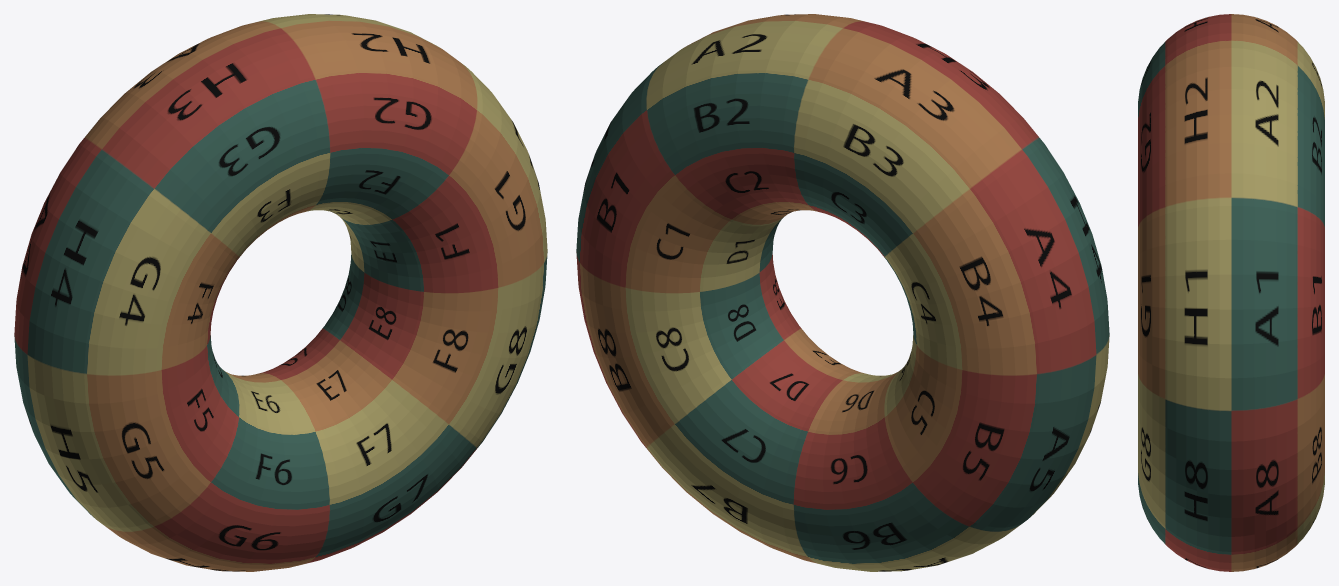
Rendered from texture_torus_R6_r19.glb.
3 views of the same model, side by side, from view 1: azimuth 30°, elevation 25°; view 2: azimuth 150°, elevation 25°; view 3: azimuth 270°, elevation 25° (orthographic). The views are drawn at different scales.
Parts seen in each view (by area): view 1: world; view 2: world; view 3: world.
Part boxes in pixels (bbox=[...]): world: bbox=[14, 14, 547, 571]; world: bbox=[576, 14, 1109, 571]; world: bbox=[1138, 14, 1324, 571].
Size of the model in its own units: 21.07 by 21.03 by 7.05.
1 material, 1 textured.
